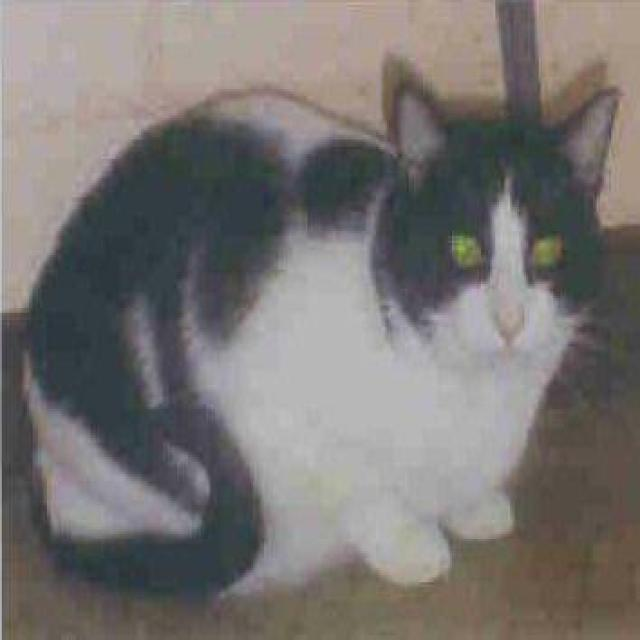cat: (20, 53, 624, 604)
